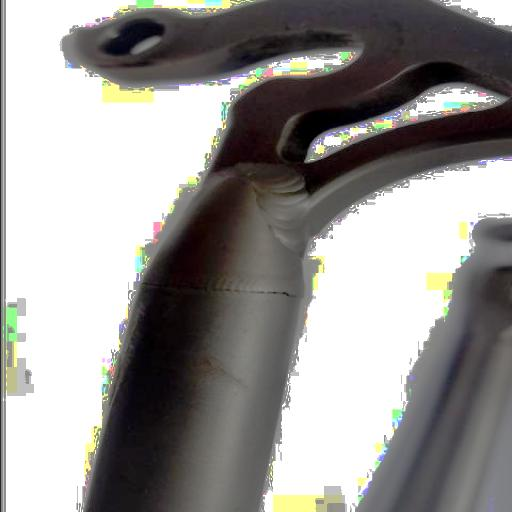crack: (138, 272, 310, 306)
